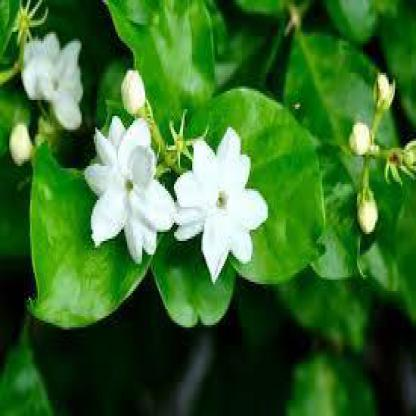Melati: (78, 88, 177, 256), (184, 103, 263, 283), (21, 5, 74, 133)
